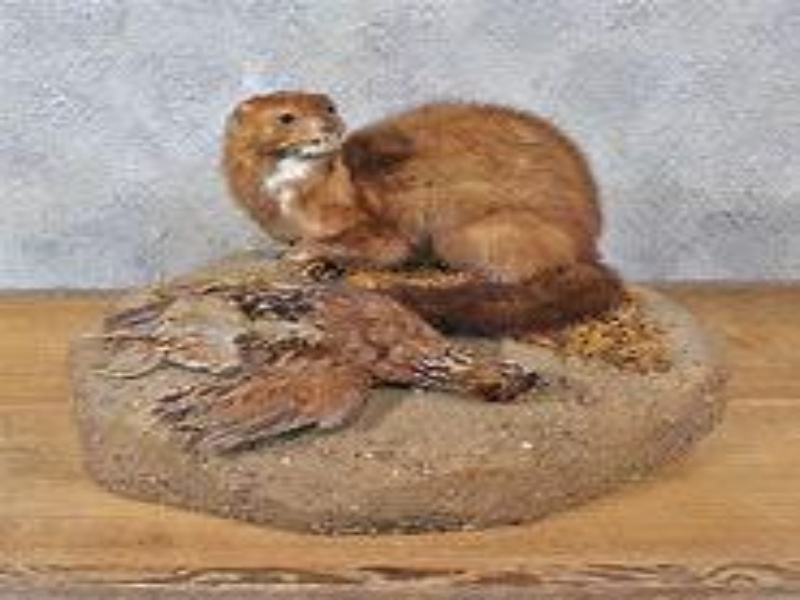minkish: (224, 90, 605, 297)
